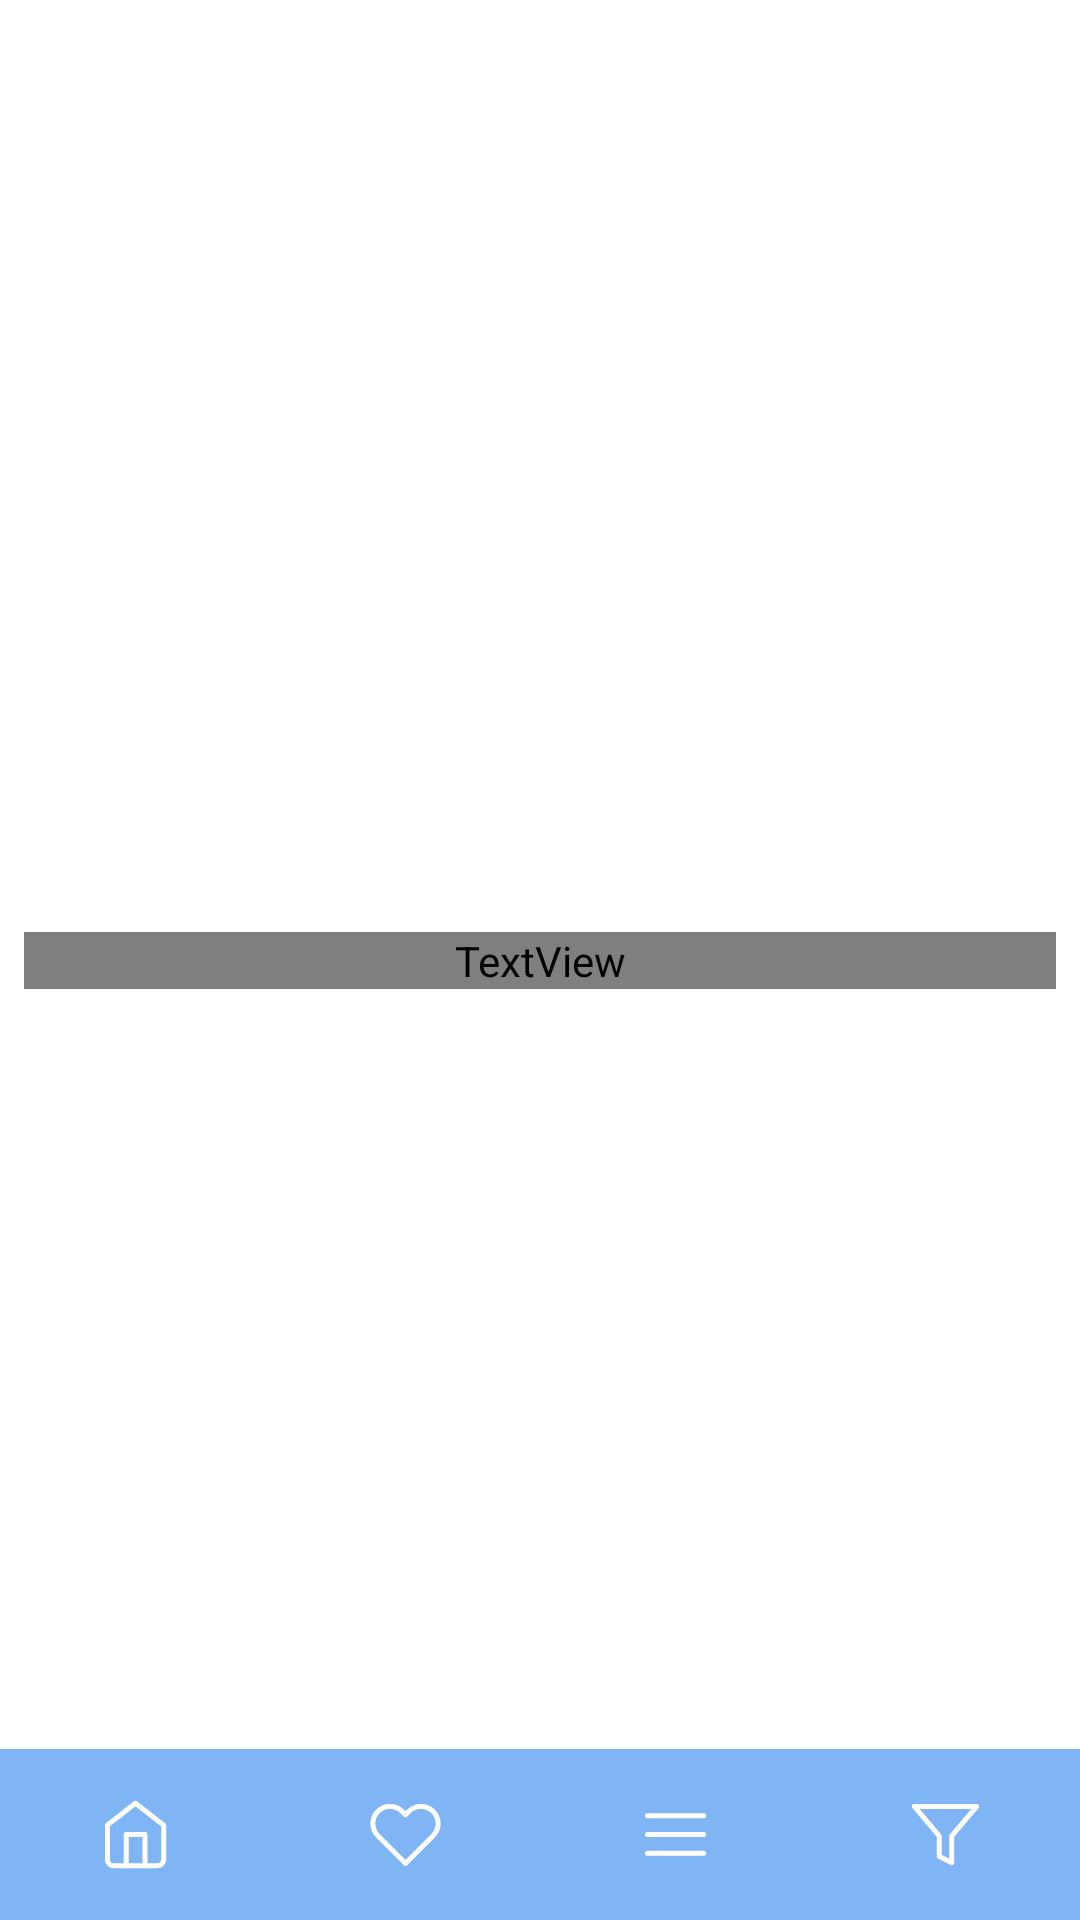

Point at icon controls on the screen. Image size 1080px x 1920px, points as (x=x, y=y).
filter: (x=945, y=1834)
heart: (x=405, y=1835)
home: (x=136, y=1834)
menu: (x=675, y=1834)
